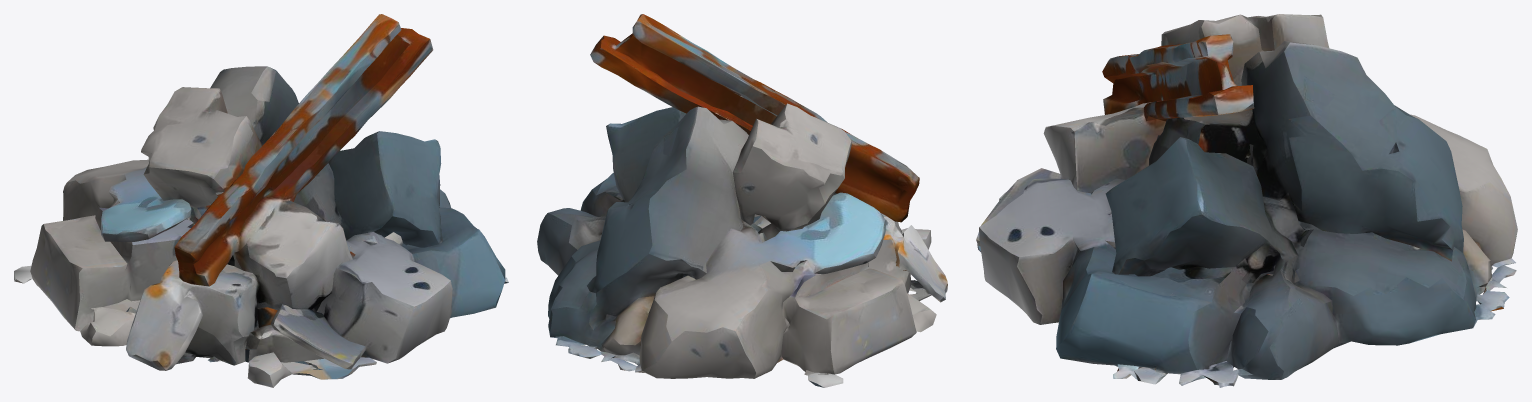
Rendered from rubble.glb.
The picture shows the model from 3 angles, left to right: view 1: azimuth 30°, elevation 25°; view 2: azimuth 150°, elevation 25°; view 3: azimuth 270°, elevation 25°; orthographic projection. The views are drawn at different scales.
Visible parts, largest first — view 1: rubble_s15; view 2: rubble_s15; view 3: rubble_s15.
Part boxes in pixels (x1=…): rubble_s15: x1=14, y1=14, x2=508, y2=387; rubble_s15: x1=537, y1=14, x2=947, y2=387; rubble_s15: x1=976, y1=14, x2=1517, y2=387.
Size of the model in its own units: 0.9989 by 0.6134 by 1.
Materials: 1 (1 with a texture image).
